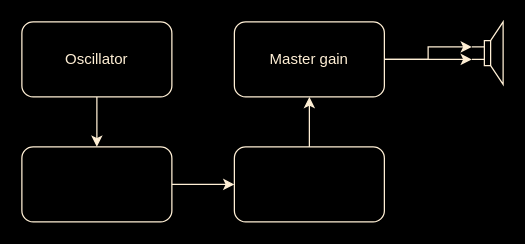
The diagram is 525 pixels wide and 244 high, and some of its shapes have lost their labels. The centre of each missing label's shape, as x and y in pixels:
Gain w/AD env: the point at 308,184
Low-pass filter: the point at 96,184
